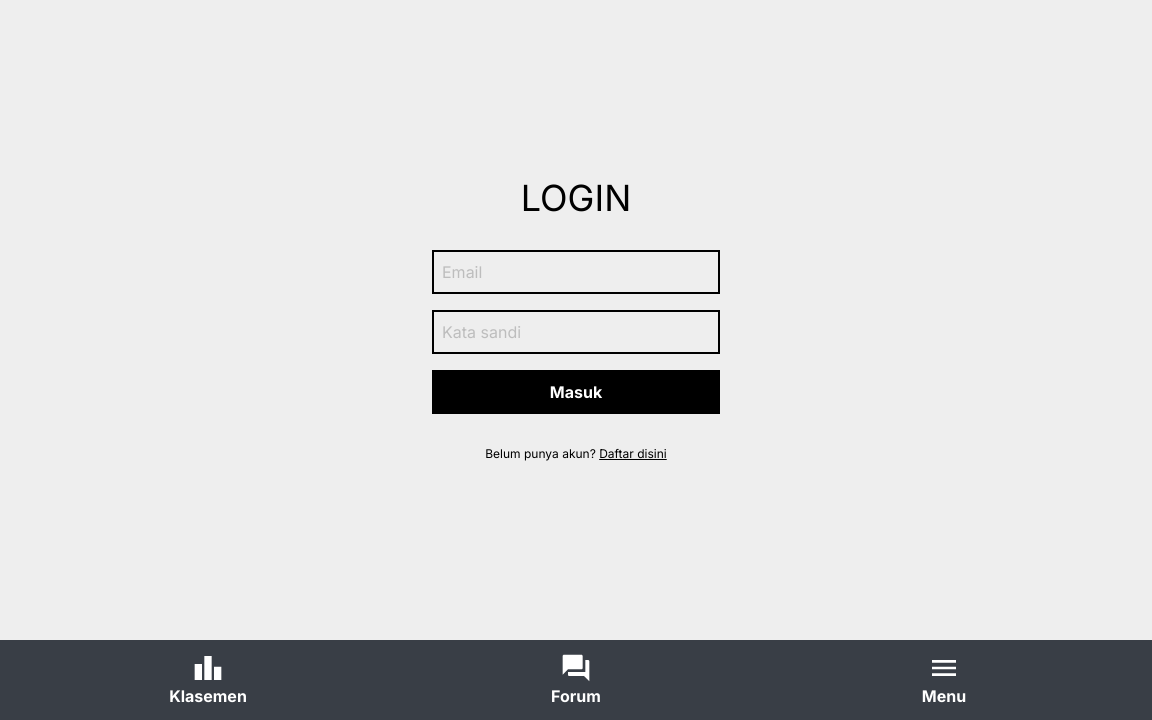
Test case: Login spec › should display alert when password is empty
This screenshot has width=1152, height=720.
Step 1. Type "test" into the field with test id "email" → (576, 272), box [432,250,720,294]
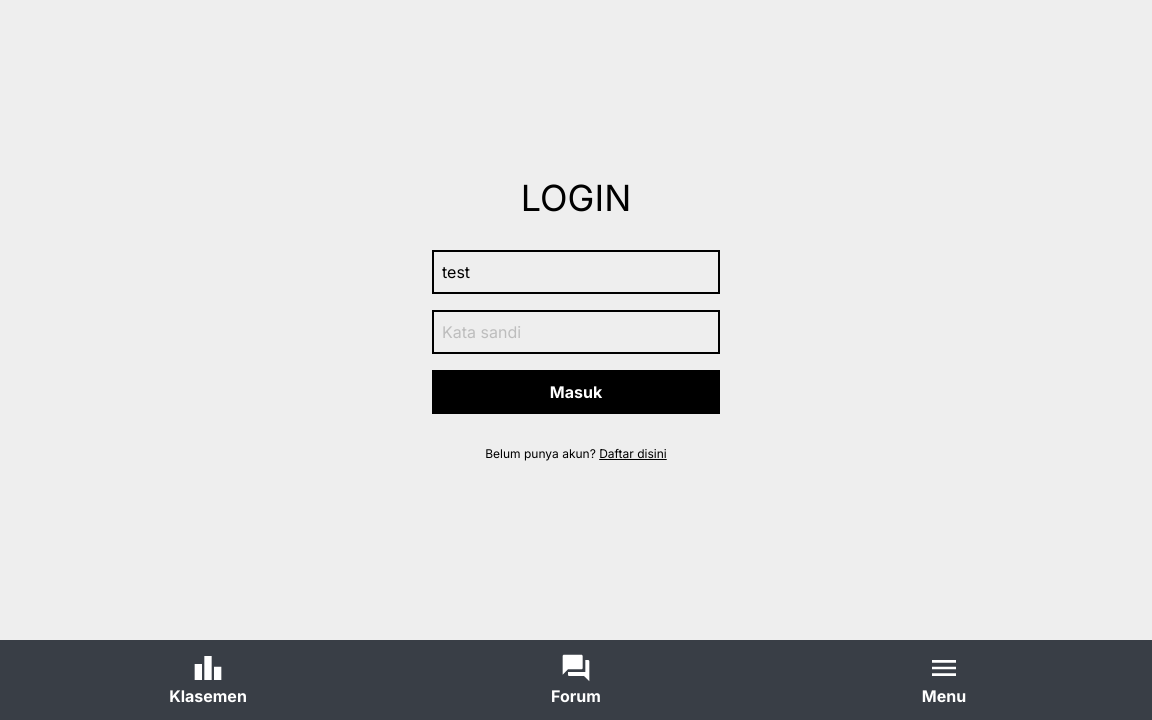
Step 2. Click the button with test id "login-btn" → click(576, 392), box [432,370,720,414]
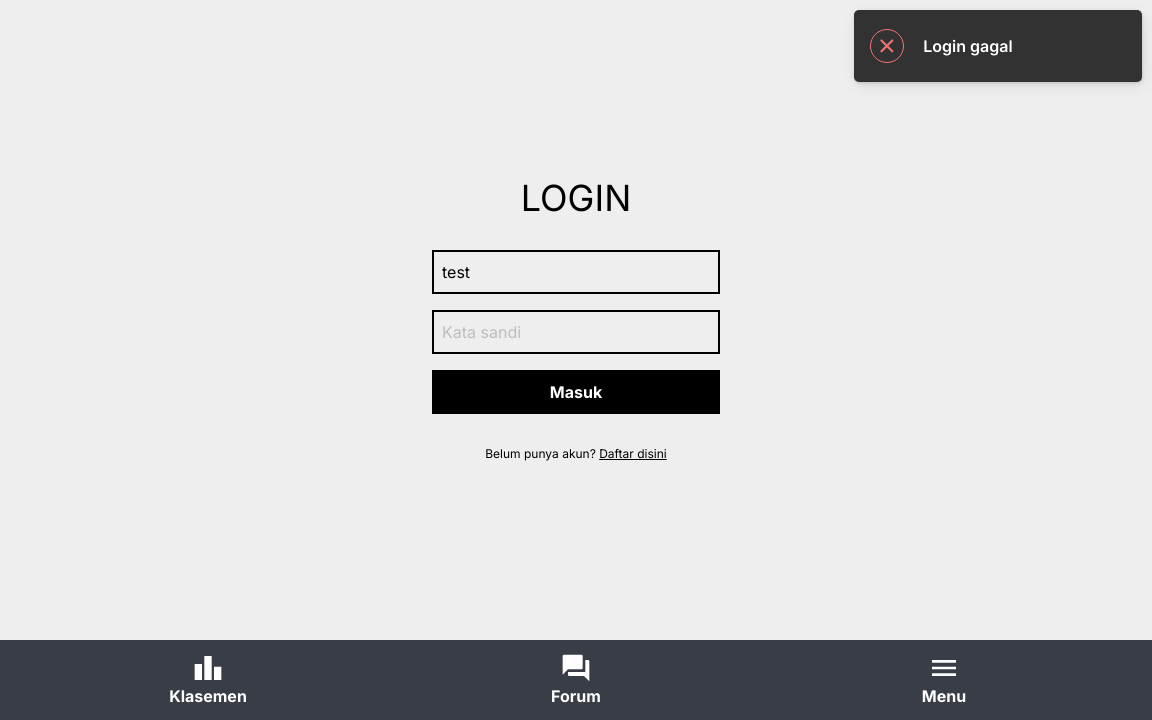
Now the message "Login gagal" is shown, box [854,10,1142,82]
